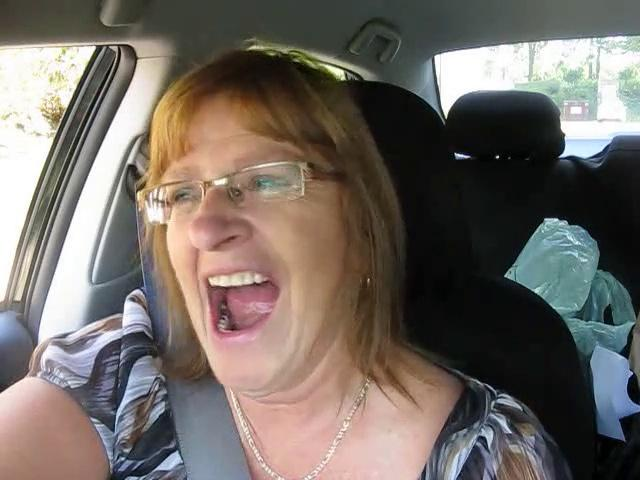close_eyeL: (148, 177, 214, 218)
close_eyeR: (228, 164, 325, 212)
yawn: (182, 254, 305, 347)
